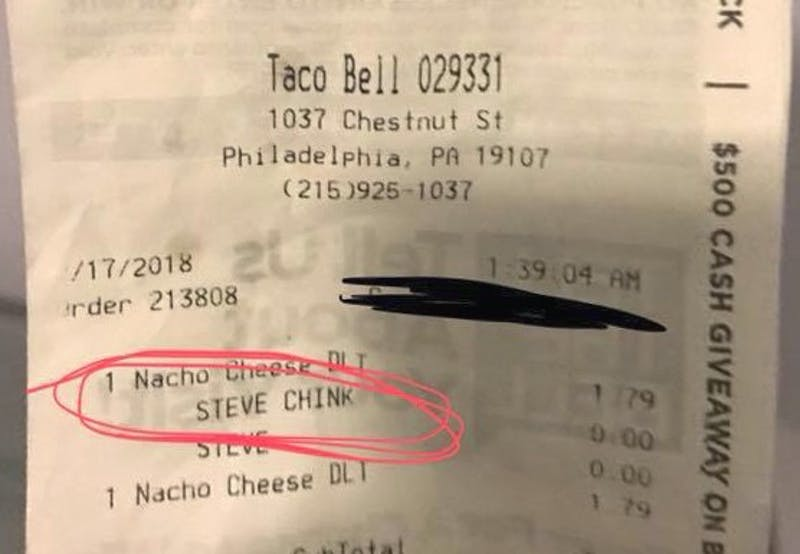Taco Bell: (264, 47, 403, 102)
